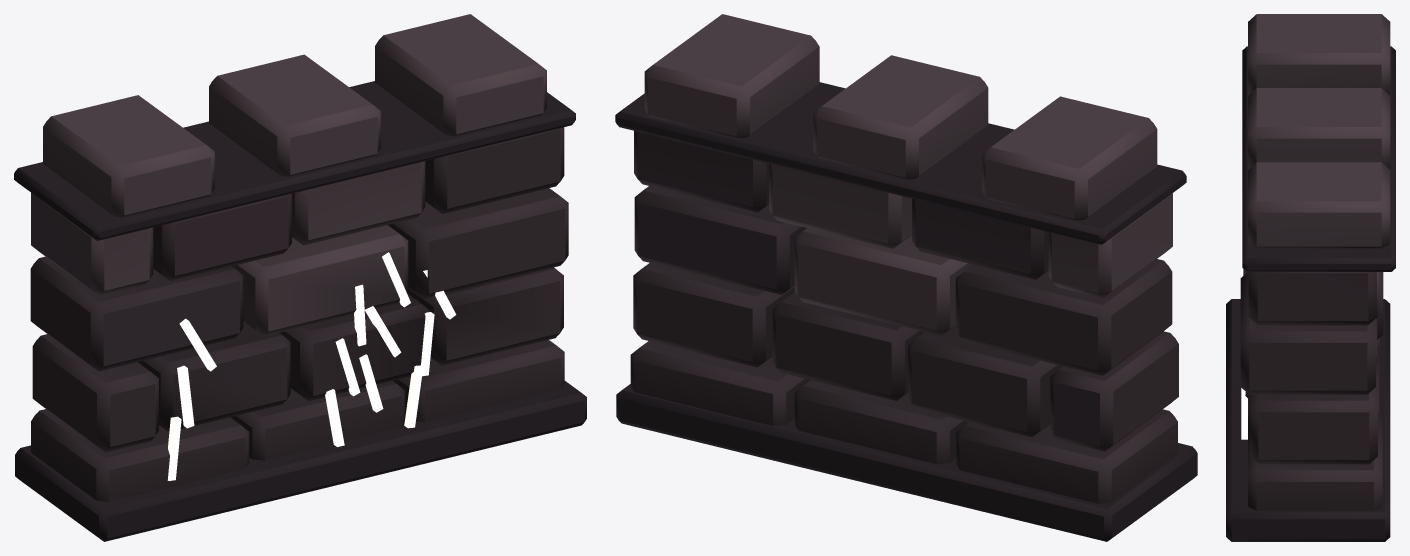
File: mt_wall_5.glb
The picture shows the model from 3 angles, left to right: view 1: azimuth 30°, elevation 25°; view 2: azimuth 150°, elevation 25°; view 3: azimuth 270°, elevation 25°; orthographic projection. The views are drawn at different scales.
Visible parts, largest first — view 1: body, crack_glow; view 2: body; view 3: body, crack_glow.
Boxes of the visible parts, x1,y1,x2,y2 form: body: [14, 14, 586, 541]; crack_glow: [167, 252, 456, 480]; body: [615, 14, 1197, 541]; body: [1226, 14, 1395, 541]; crack_glow: [1241, 191, 1247, 439].
Bounding box in the file's own units: 4.7 × 3.3 × 1.55.
